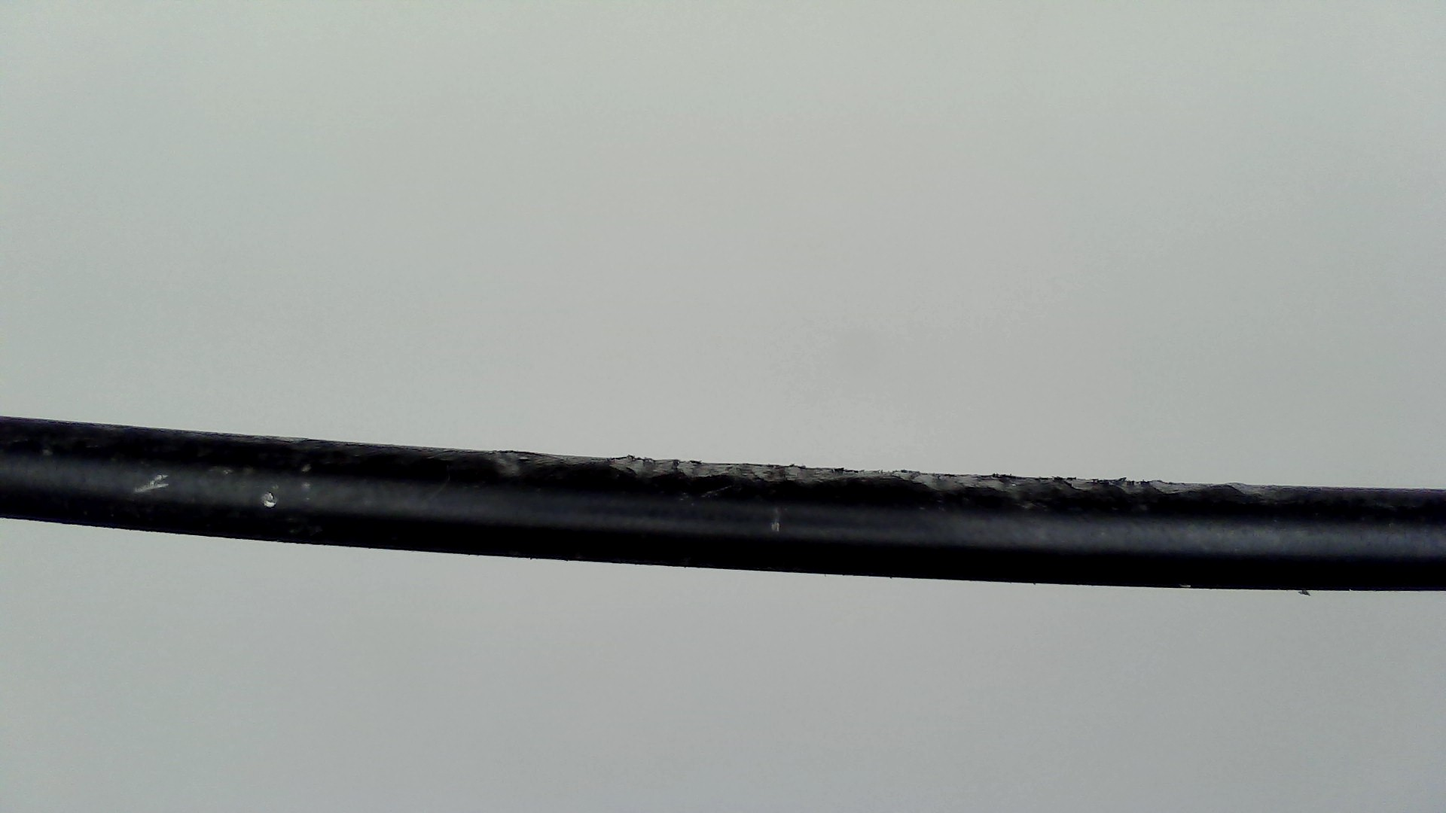defect: (492, 453, 1288, 527)
